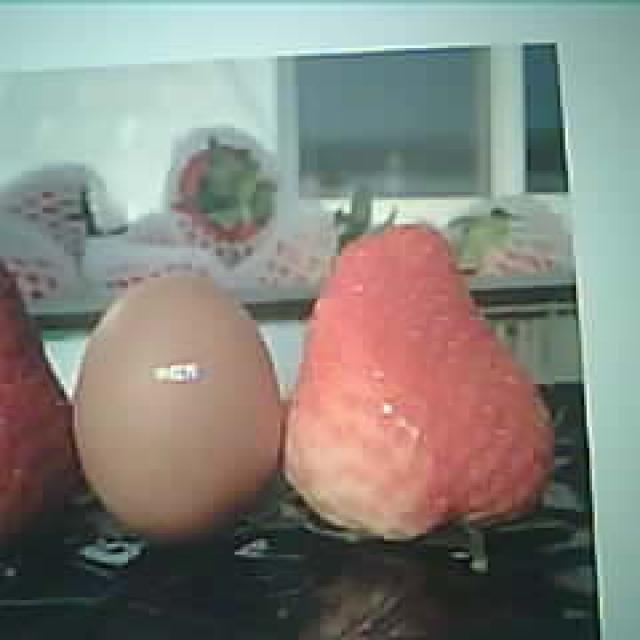strawberry: (287, 226, 556, 532)
